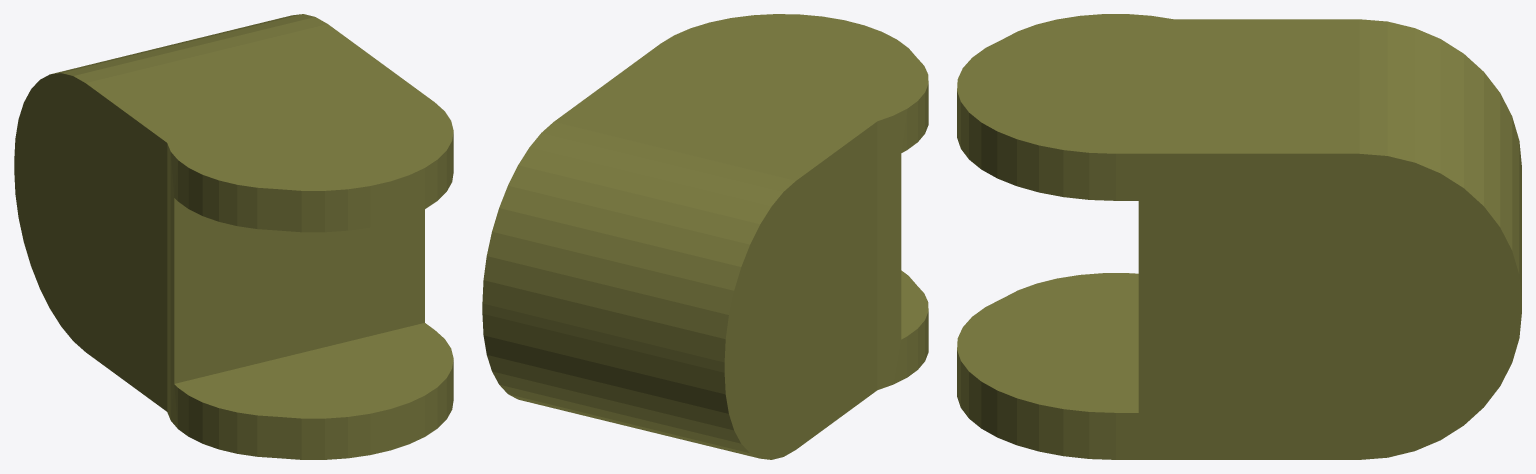
File: RLEG_LINK4_mesh.dae
The picture shows the model from 3 angles, left to right: view 1: azimuth 30°, elevation 25°; view 2: azimuth 150°, elevation 25°; view 3: azimuth 270°, elevation 25°; orthographic projection. The views are drawn at different scales.
Visible parts, largest first — view 1: RLEG_LINK4; view 2: RLEG_LINK4; view 3: RLEG_LINK4.
Part boxes in pixels (<box>): RLEG_LINK4: <box>14,14,453,459</box>; RLEG_LINK4: <box>482,14,928,459</box>; RLEG_LINK4: <box>957,14,1521,459</box>.
Size of the model in its own units: 0.0509 by 0.052 by 0.087.
